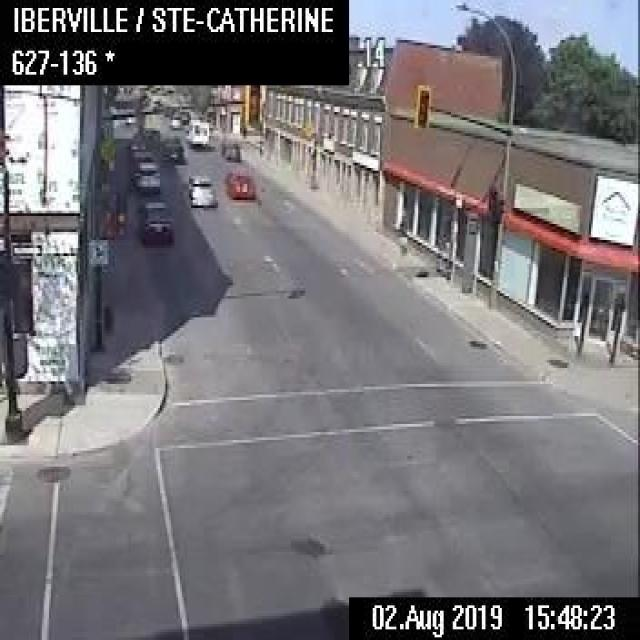vehicle: (139, 199, 173, 239), (186, 171, 217, 205), (132, 160, 160, 192), (225, 170, 254, 198), (129, 150, 155, 178), (184, 117, 208, 145), (160, 134, 182, 160), (219, 139, 239, 159), (129, 128, 144, 148), (170, 112, 181, 128)
